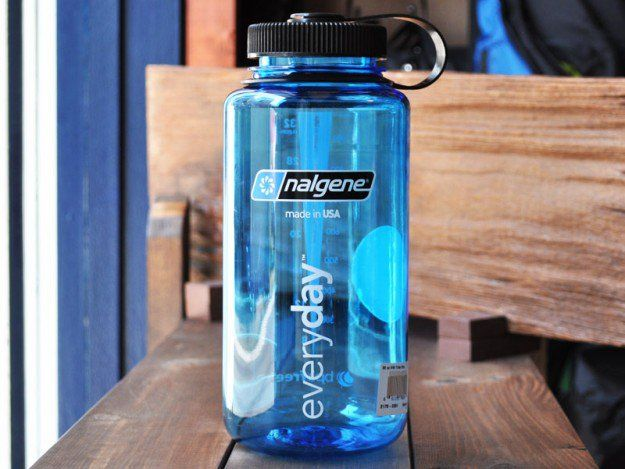waterbottle: (220, 10, 448, 460)
